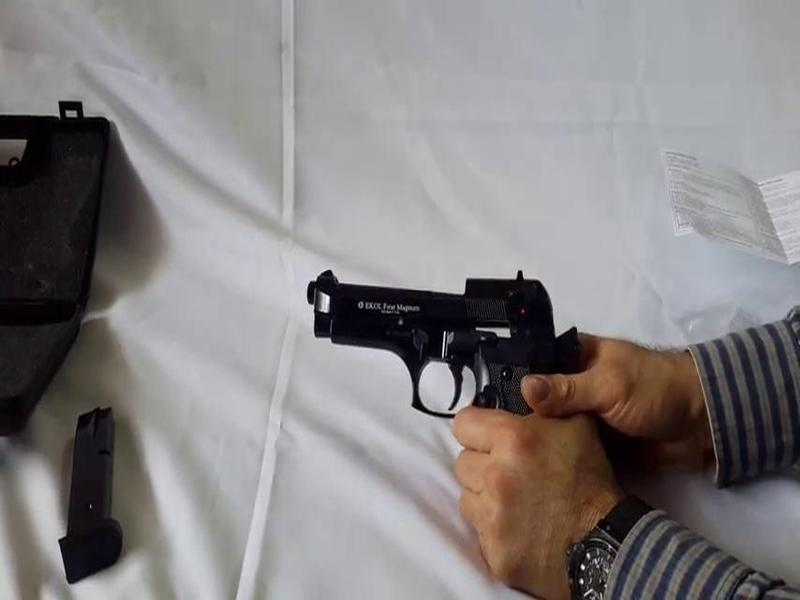Pistola: (291, 253, 653, 472)
